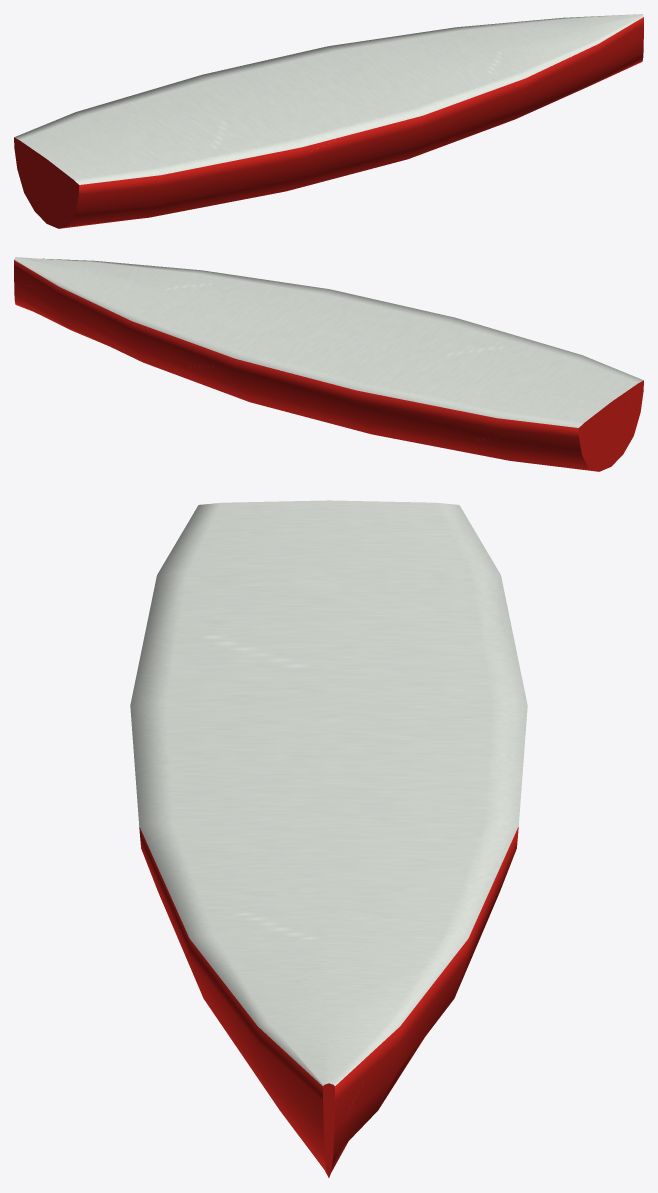
The model's file is sloop-hull.glb.
3 renders of one model, top to bottom at view 1: azimuth 30°, elevation 25°; view 2: azimuth 150°, elevation 25°; view 3: azimuth 270°, elevation 25°, orthographic. The views are drawn at different scales.
Visible parts, largest first — view 1: Sloop hull; view 2: Sloop hull; view 3: Sloop hull.
Boxes of the visible parts, left/top/right/bottom form: Sloop hull: left=14, top=14, right=643, bottom=228; Sloop hull: left=14, top=257, right=643, bottom=471; Sloop hull: left=130, top=500, right=527, bottom=1177.
Bounding box in the file's own units: 2.32 × 0.2765 × 0.67.
2 materials, 2 textured.
